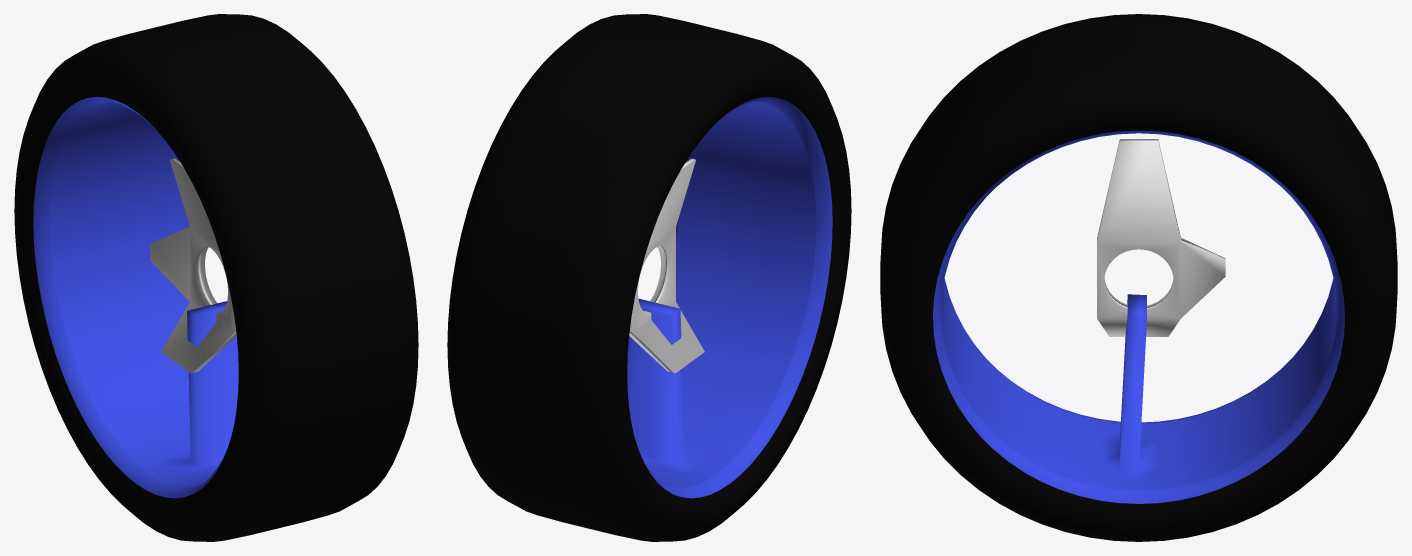
File: Wheel.fbx
3 renders of one model, left to right at view 1: azimuth 30°, elevation 25°; view 2: azimuth 150°, elevation 25°; view 3: azimuth 270°, elevation 25°, orthographic.
Parts seen in each view (by area): view 1: wheel_FL, spindle_FL; view 2: wheel_FL, spindle_FL; view 3: wheel_FL, spindle_FL.
Boxes of the visible parts, left/top/right/bottom form: wheel_FL: left=14, top=14, right=418, bottom=541; spindle_FL: left=150, top=158, right=236, bottom=373; wheel_FL: left=447, top=14, right=851, bottom=541; spindle_FL: left=629, top=158, right=704, bottom=373; wheel_FL: left=880, top=14, right=1397, bottom=541; spindle_FL: left=1097, top=139, right=1225, bottom=336.
Bounding box in the file's own units: 24.19 × 63.1 × 63.1.
